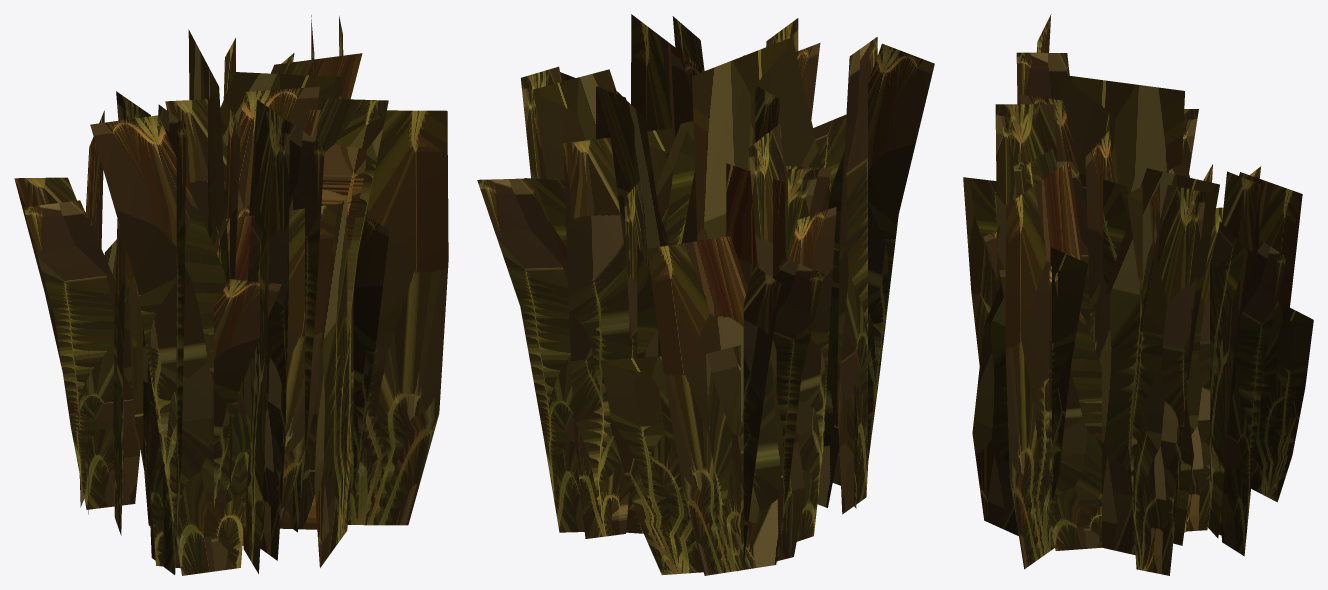
Rendered from meadow_grass_001_a_LOD1.gltf.
3 renders of one model, left to right at view 1: azimuth 30°, elevation 25°; view 2: azimuth 150°, elevation 25°; view 3: azimuth 270°, elevation 25°, orthographic. The views are drawn at different scales.
Visible parts, largest first — view 1: meadow_grass_001_a_LOD1; view 2: meadow_grass_001_a_LOD1; view 3: meadow_grass_001_a_LOD1.
Part boxes in pixels (x1,y1,x2,y2): meadow_grass_001_a_LOD1: (14,15,448,575); meadow_grass_001_a_LOD1: (477,14,934,575); meadow_grass_001_a_LOD1: (963,14,1313,575).
Bounding box in the file's own units: 0.7333 × 0.9731 × 0.7344.
Materials: 1 (1 with a texture image).
